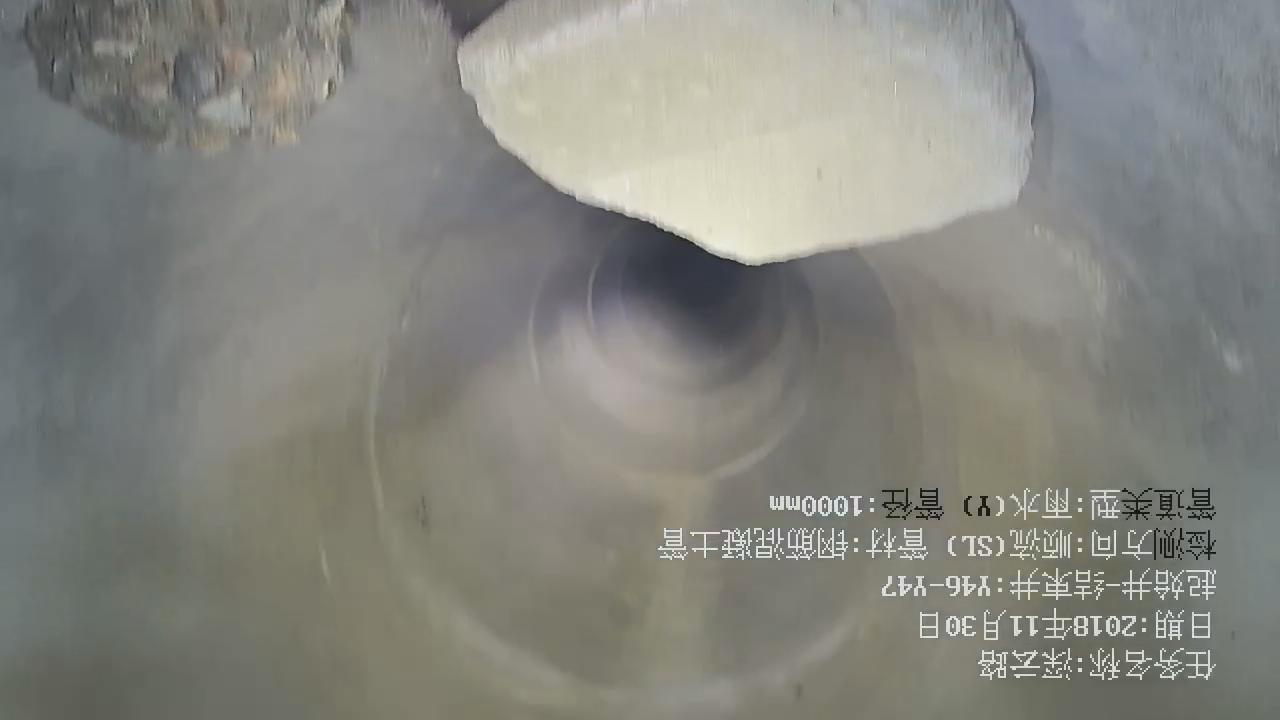ZAW: (459, 1, 1034, 265), (26, 1, 359, 155)
